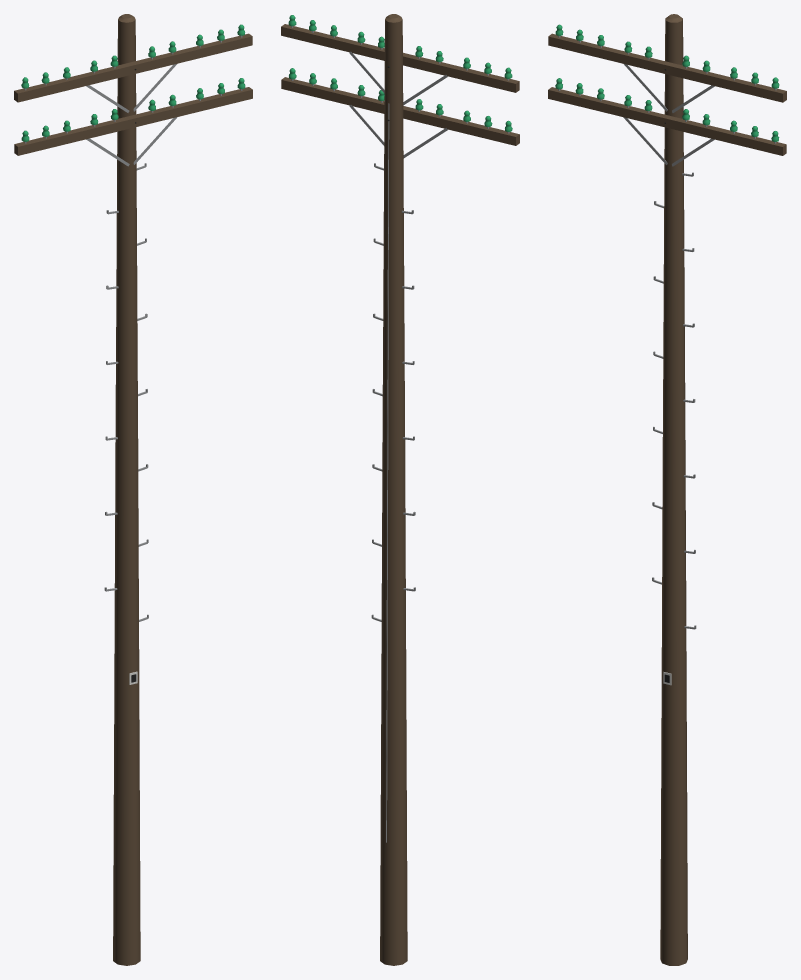
The model's file is pole_telegraph.glb.
3 renders of one model, left to right at view 1: azimuth 30°, elevation 25°; view 2: azimuth 150°, elevation 25°; view 3: azimuth 330°, elevation 25°, orthographic.
Parts seen in each view (by area): view 1: Fixed_Wood, Fixed_Green, Fixed_Galv; view 2: Fixed_Wood, Fixed_Galv, Fixed_Green; view 3: Fixed_Wood, Fixed_Green, Fixed_Galv.
Part boxes in pixels (bbox=[...]): Fixed_Wood: bbox=[14, 14, 252, 965]; Fixed_Green: bbox=[21, 24, 245, 141]; Fixed_Galv: bbox=[24, 35, 242, 621]; Fixed_Wood: bbox=[281, 14, 519, 965]; Fixed_Galv: bbox=[291, 26, 509, 842]; Fixed_Green: bbox=[288, 15, 512, 131]; Fixed_Wood: bbox=[548, 14, 786, 965]; Fixed_Green: bbox=[555, 24, 779, 141]; Fixed_Galv: bbox=[558, 36, 776, 629].
Bounding box in the file's own units: 3 × 11.52 × 0.3661.
